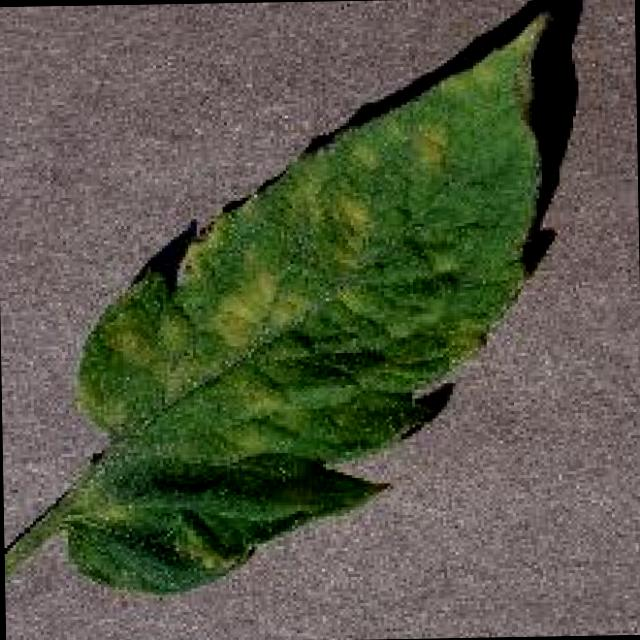leaf mold: (4, 1, 549, 599)
